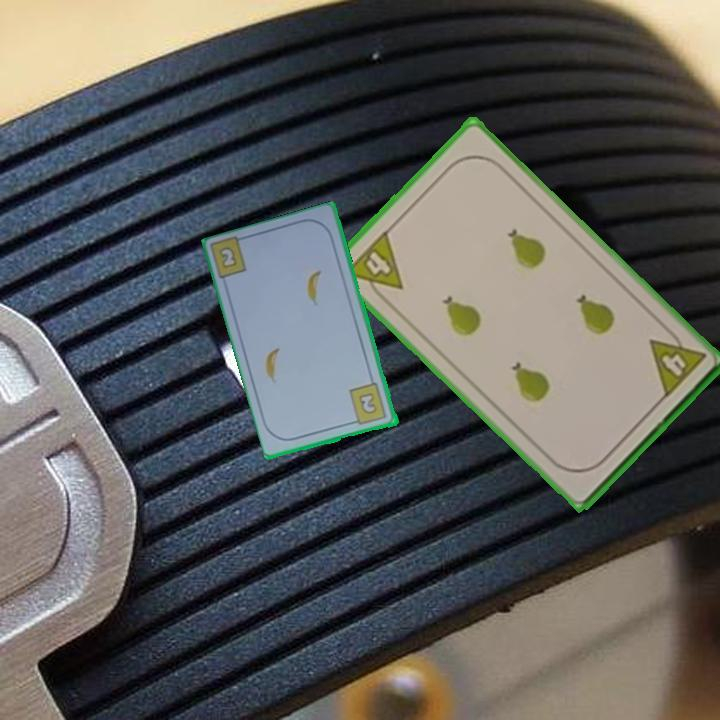2b: (346, 380, 390, 428), (218, 245, 238, 269)
4p: (341, 226, 406, 307), (645, 323, 709, 401)
